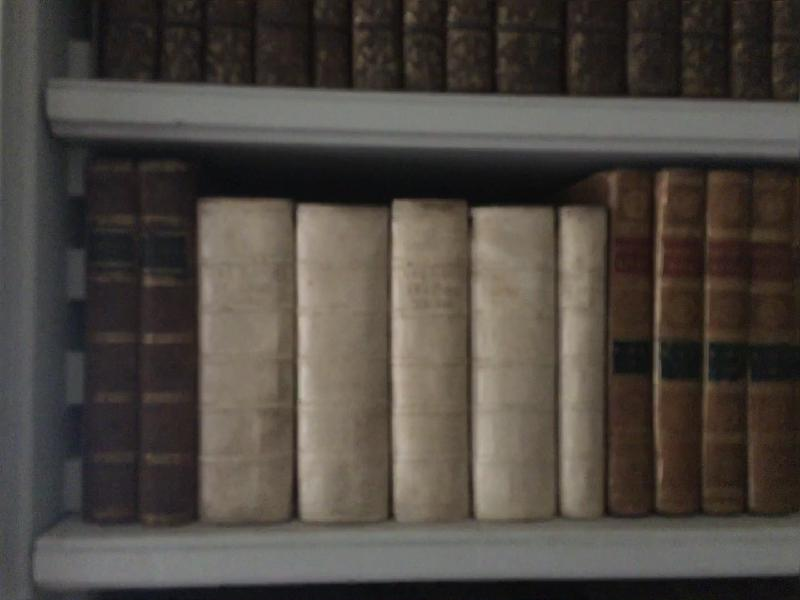Kk4-1_2: (80, 144, 203, 541)
Kk4-3_7: (192, 189, 611, 530)
Kk4-8_13: (602, 161, 800, 525)
